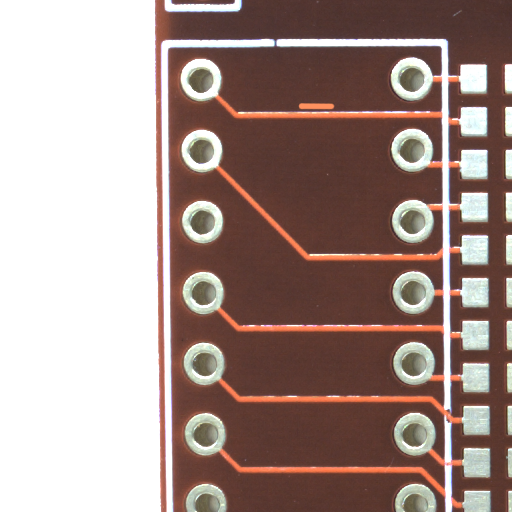Spurious_copper: (315, 106, 355, 115)
